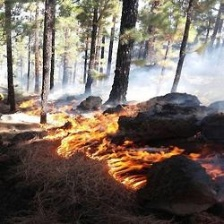fire: (17, 85, 218, 195)
